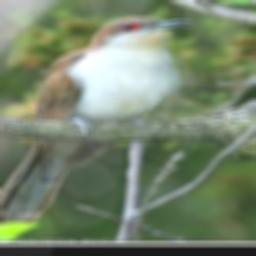Cuckoo: (0, 15, 196, 240)
